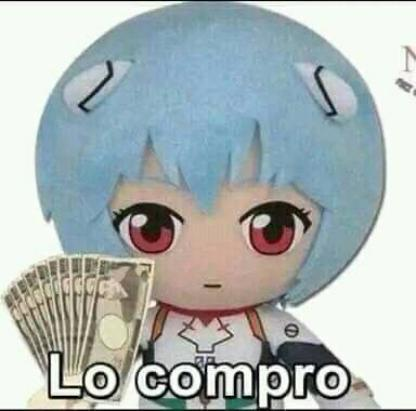rei-plush: (27, 0, 390, 409)
